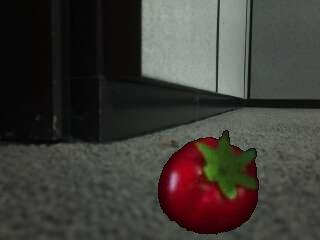Tomato: (157, 130, 258, 235)
